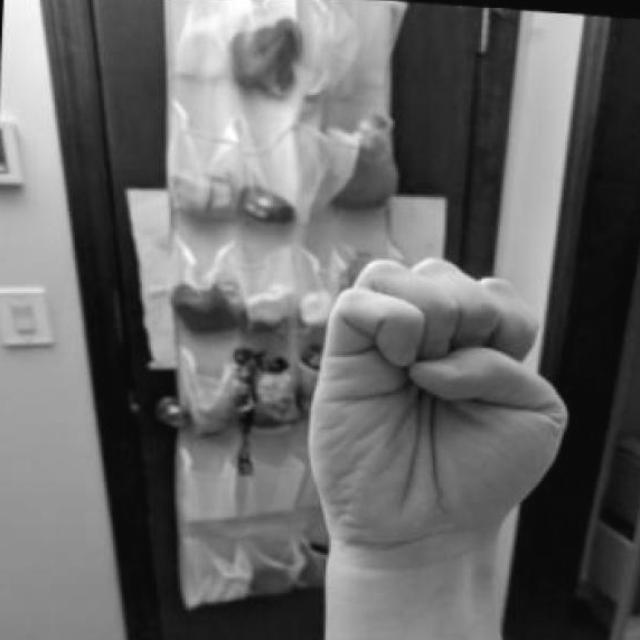E: (290, 244, 581, 592)
